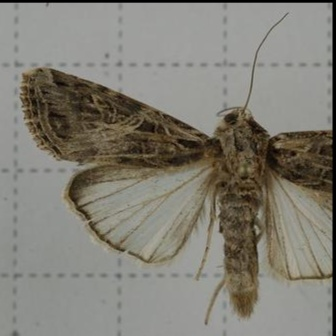Spodoptera litura: (19, 11, 331, 326)
